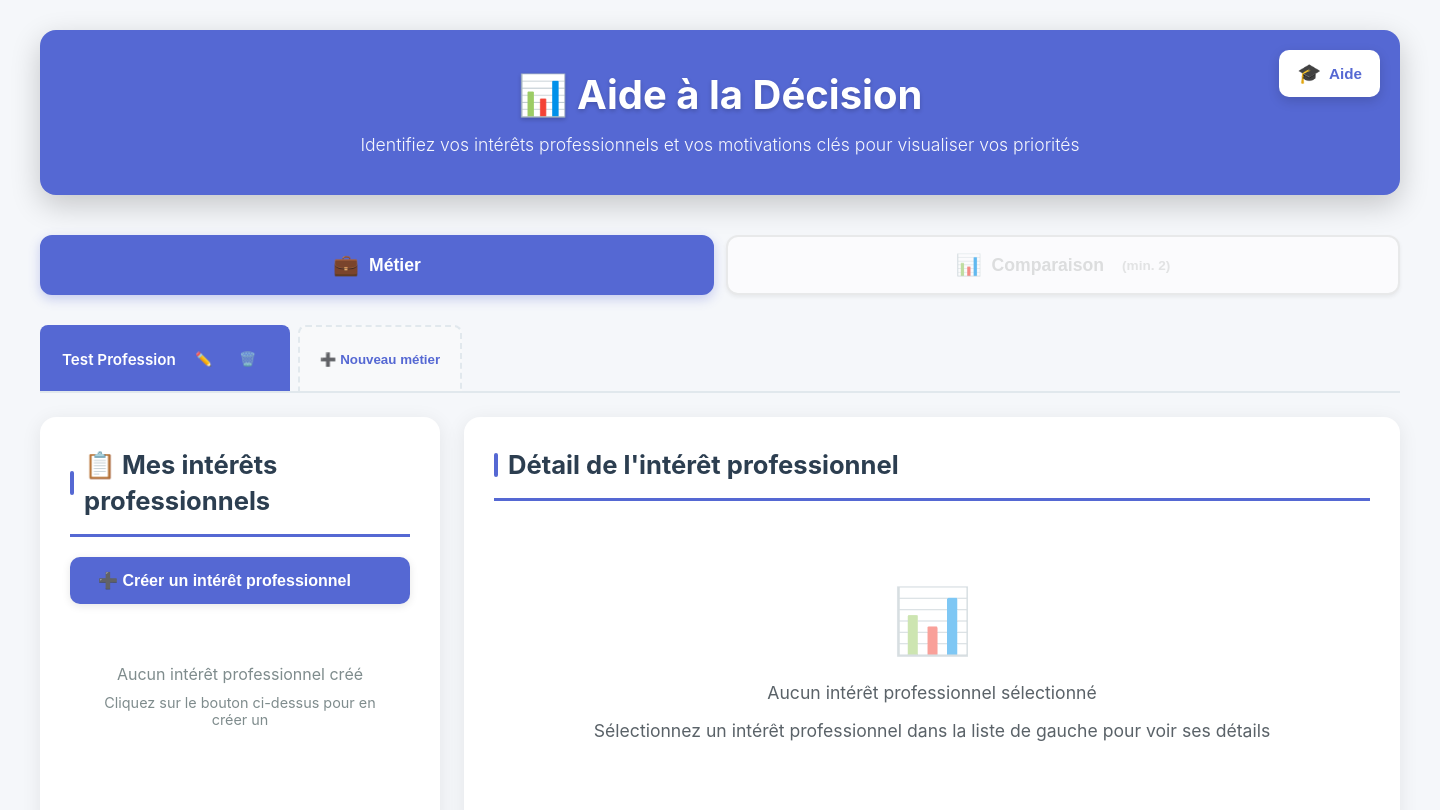
Test: App › should open rename profession modal
Expected: the text "Test Profession" is shown, [62,350,176,368]
Click the button named "renommer le métier".
click(204, 359)  # box [184,339,224,379]
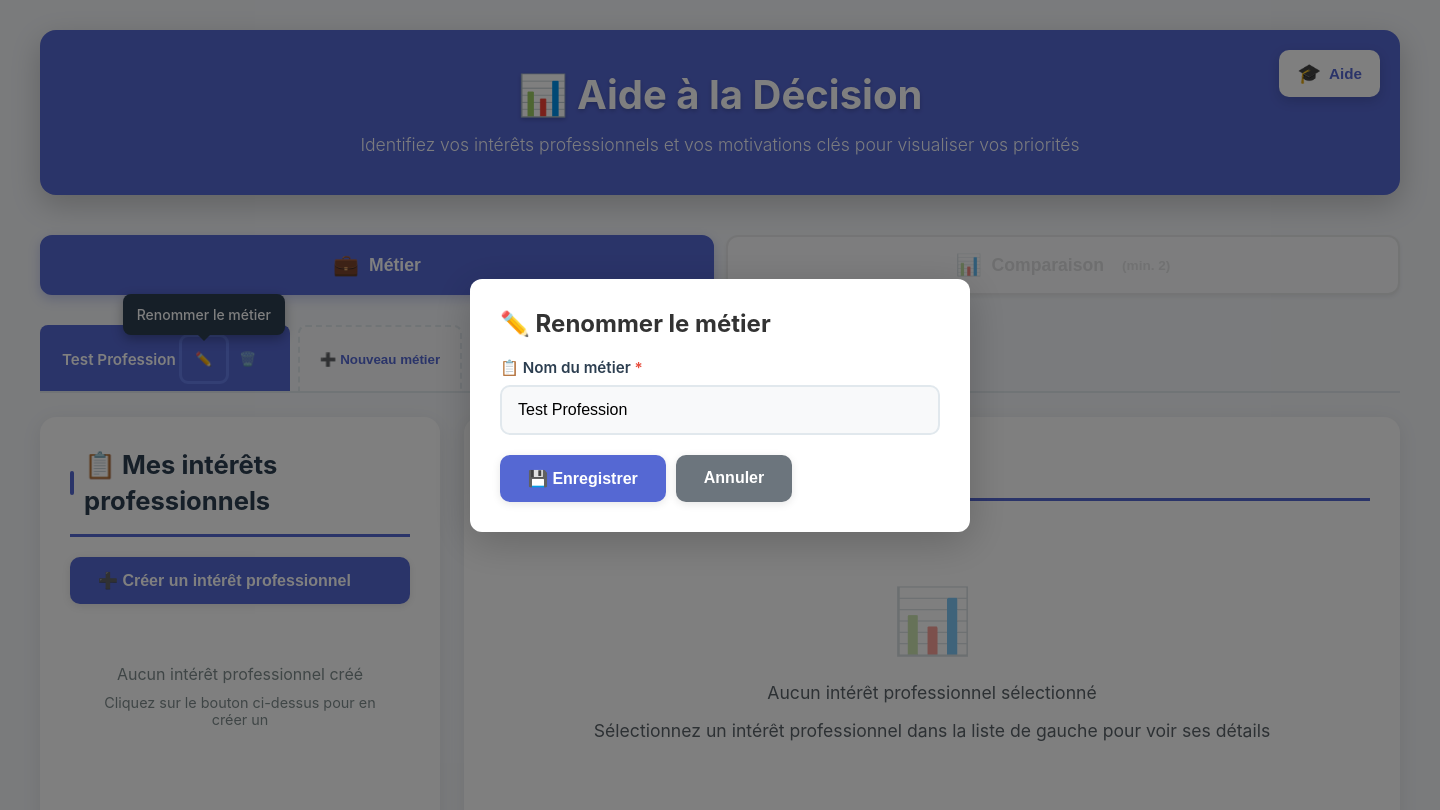
Now the text "Renommer le métier" is shown, box [123,294,285,335]
